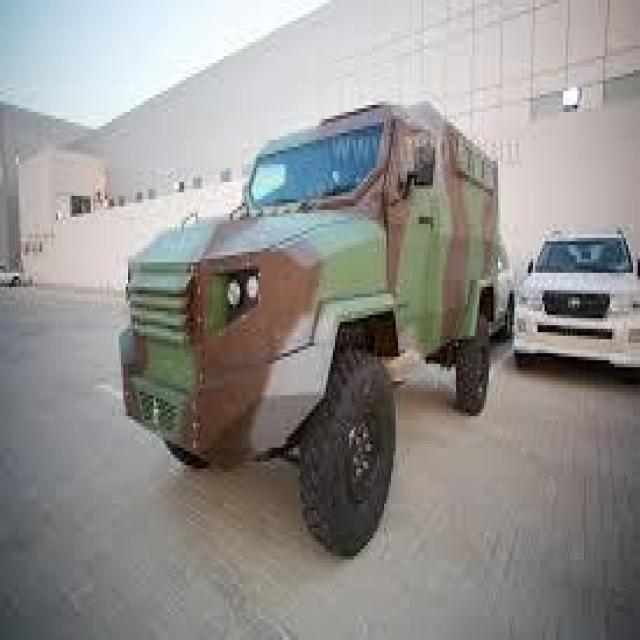Tanks: (73, 44, 530, 572)
